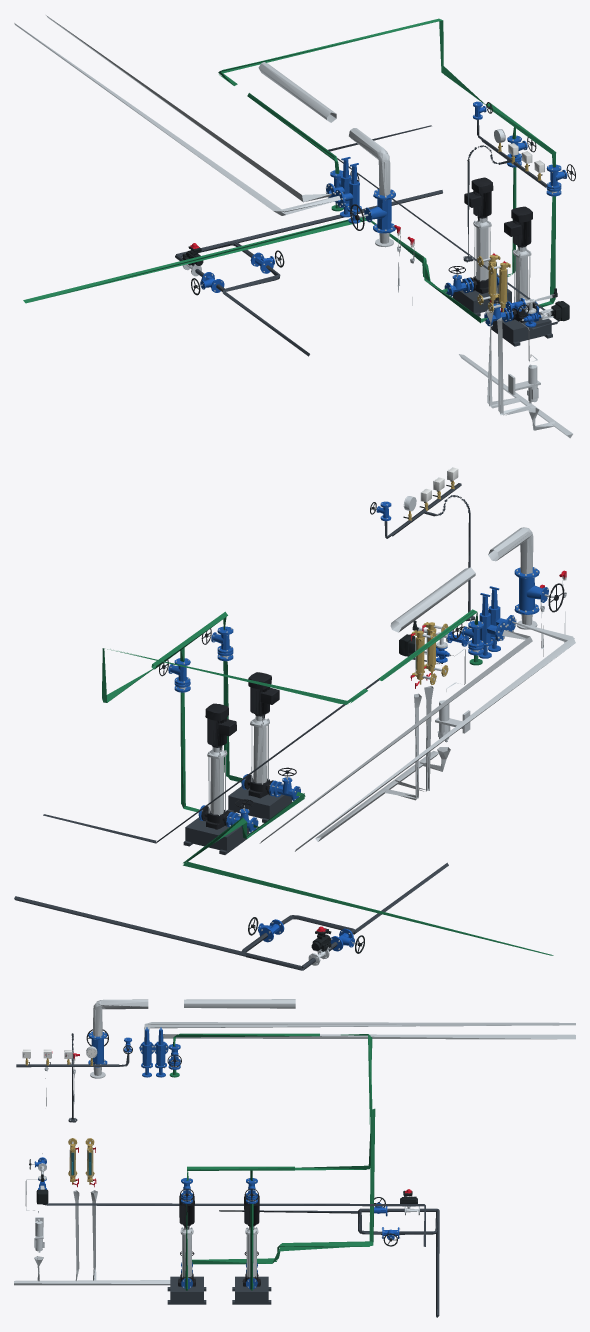
3 renders of one model, top to bottom at view 1: azimuth 30°, elevation 25°; view 2: azimuth 150°, elevation 25°; view 3: azimuth 270°, elevation 25°, orthographic. The views are drawn at different scales.
Visible parts, largest first — view 1: suction_common, pump_2, local_open_drains, pump_1, safety_vent_1, pump_branch_1, safety_vent_2, to_direct, pump_branch_2, steam_delivery, steam_manual, steam_rise (+7 smaller); view 2: pump_2, pump_1, local_open_drains, pump_branch_2, suction_common, safety_vent_1, pump_branch_1, safety_vent_2, to_direct, steam_delivery, steam_manual, bottom_discharge (+5 smaller); view 3: safety_vent_1, safety_vent_2, local_open_drains, suction_common, pump_branch_2, pump_branch_1, steam_delivery, tds_common, pump_1, pump_2, steam_rise, to_direct (+4 smaller).
Part boxes in pixels (bbox=[...]): suction_common: bbox=[23, 217, 480, 323]; pump_2: bbox=[464, 177, 493, 293]; local_open_drains: bbox=[459, 309, 572, 438]; pump_1: bbox=[504, 206, 536, 322]; safety_vent_1: bbox=[14, 23, 340, 215]; pump_branch_1: bbox=[481, 152, 555, 346]; safety_vent_2: bbox=[46, 15, 331, 202]; to_direct: bbox=[218, 18, 486, 105]; pump_branch_2: bbox=[440, 127, 516, 316]; steam_delivery: bbox=[258, 62, 336, 122]; steam_manual: bbox=[350, 189, 395, 233]; steam_rise: bbox=[349, 128, 390, 195]; pump_2: bbox=[201, 703, 236, 829]; pump_1: bbox=[244, 672, 279, 798]; local_open_drains: bbox=[315, 685, 450, 841]; pump_branch_2: bbox=[180, 648, 260, 854]; suction_common: bbox=[183, 793, 553, 955]; safety_vent_1: bbox=[295, 621, 575, 851]; pump_branch_1: bbox=[223, 617, 305, 822]; safety_vent_2: bbox=[259, 630, 532, 843]; to_direct: bbox=[102, 648, 367, 704]; steam_delivery: bbox=[390, 567, 475, 632]; steam_manual: bbox=[514, 567, 564, 615]; bottom_discharge: bbox=[14, 896, 303, 970]; safety_vent_1: bbox=[144, 1022, 575, 1041]; safety_vent_2: bbox=[163, 1034, 575, 1039]; local_open_drains: bbox=[14, 1190, 170, 1285]; suction_common: bbox=[192, 1108, 375, 1264]; pump_branch_2: bbox=[232, 1170, 271, 1304]; pump_branch_1: bbox=[167, 1170, 206, 1304]; steam_delivery: bbox=[184, 999, 295, 1008]; tds_common: bbox=[43, 1203, 424, 1206]; pump_1: bbox=[178, 1194, 195, 1286]; pump_2: bbox=[242, 1194, 260, 1286]; steam_rise: bbox=[93, 999, 148, 1036]; to_direct: bbox=[295, 1034, 372, 1170].
Size of the model in its own units: 5 by 3.03 by 6.5.
